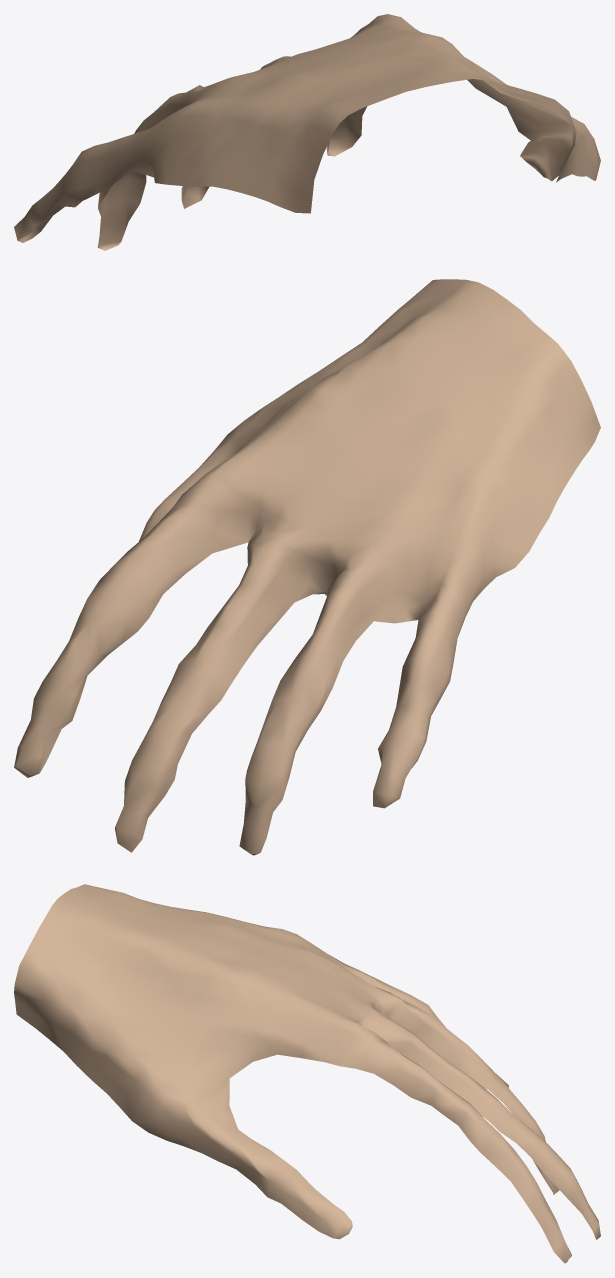
The picture shows the model from 3 angles, top to bottom: view 1: azimuth 30°, elevation 25°; view 2: azimuth 150°, elevation 25°; view 3: azimuth 270°, elevation 25°; orthographic projection. The views are drawn at different scales.
Parts seen in each view (by area): view 1: 左侧手背筋膜; view 2: 左侧手背筋膜; view 3: 左侧手背筋膜.
Part boxes in pixels (left/top/right/bottom): 左侧手背筋膜: left=14, top=14, right=600, bottom=250; 左侧手背筋膜: left=14, top=279, right=600, bottom=855; 左侧手背筋膜: left=14, top=884, right=600, bottom=1263.
Bounding box in the file's own units: 0.1623 × 0.1368 × 0.2307.
